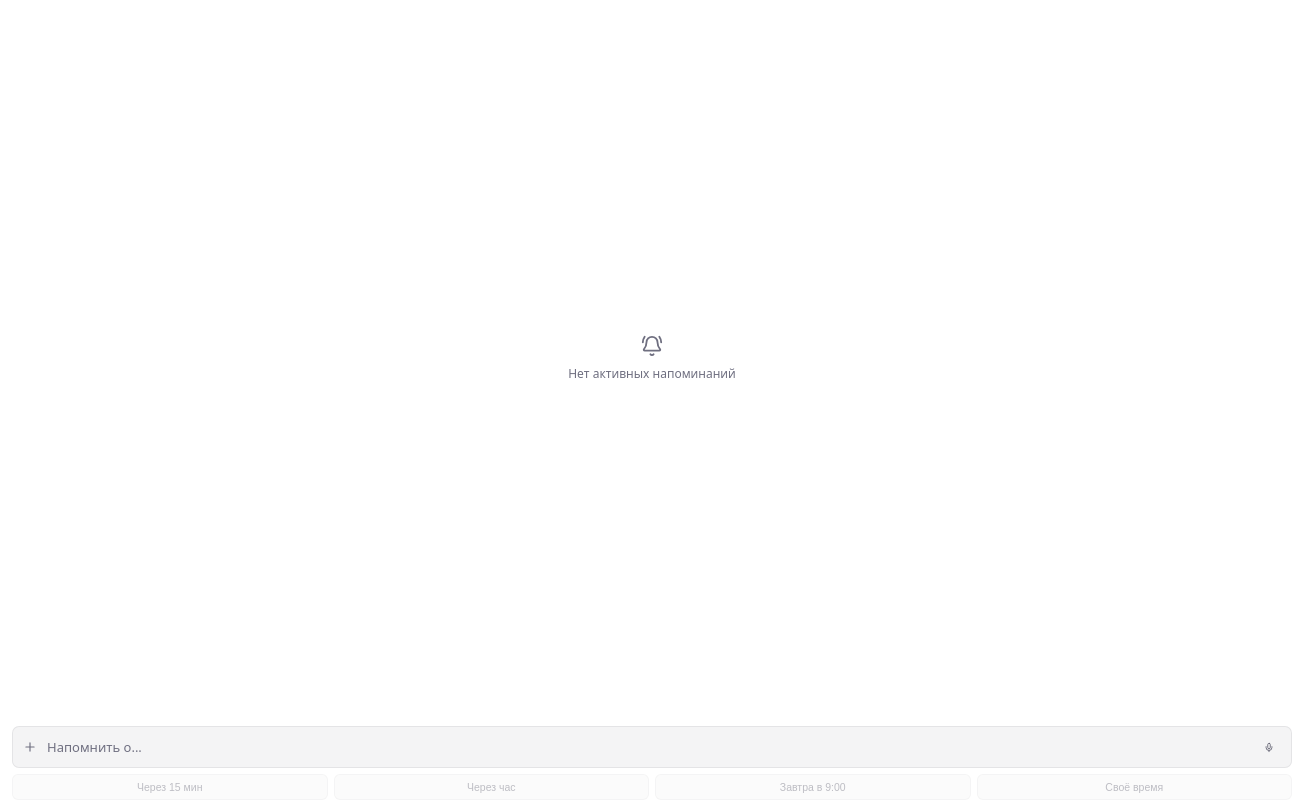
RemindersView › records and creates a voice reminder
The image size is (1304, 800).
Expected: the text "Нет активных напоминаний" is shown, [568, 364, 736, 382]
Click the button titled "Записать голосовое напоминание".
click(1269, 747)  # box [1257, 735, 1281, 759]
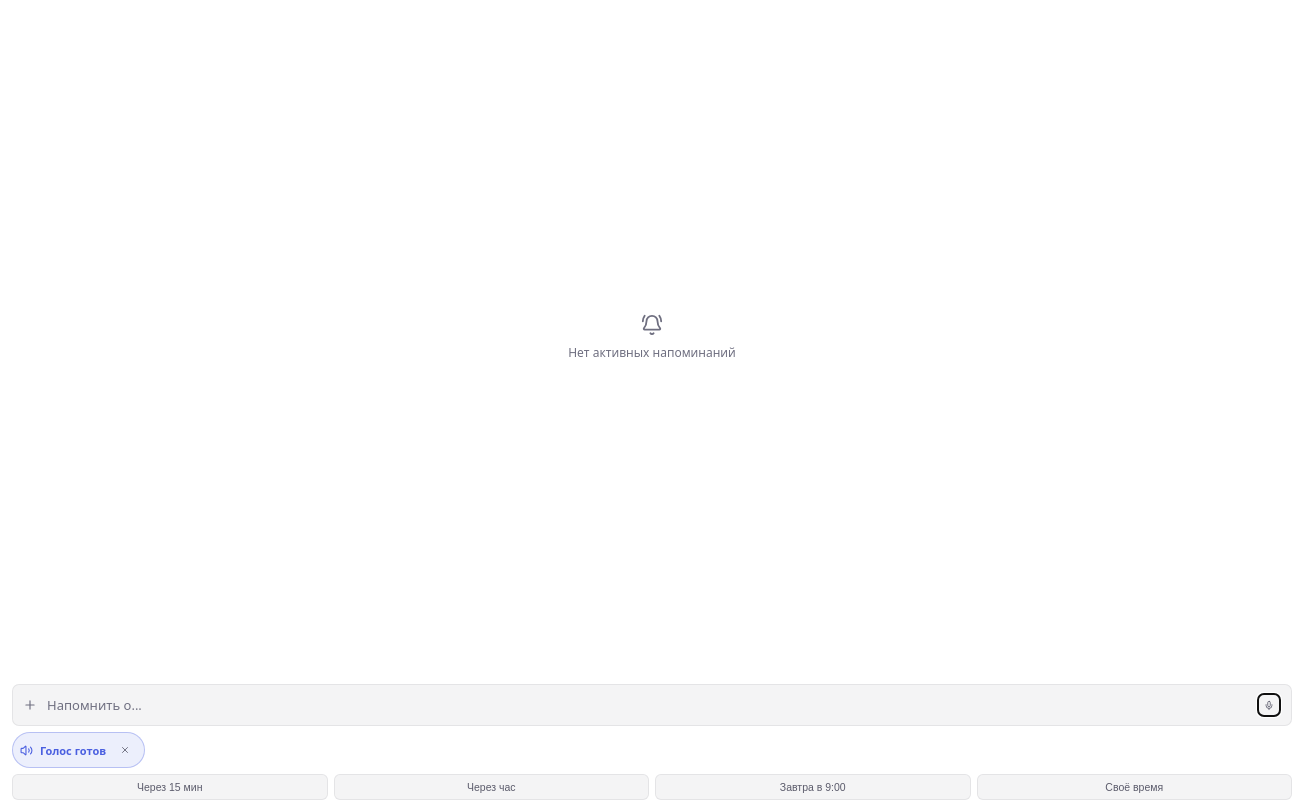
Expected: the text "Голос готов" is shown, [40, 742, 106, 758]
Click the button "Через 15 мин".
click(170, 787)  # box [12, 774, 328, 799]
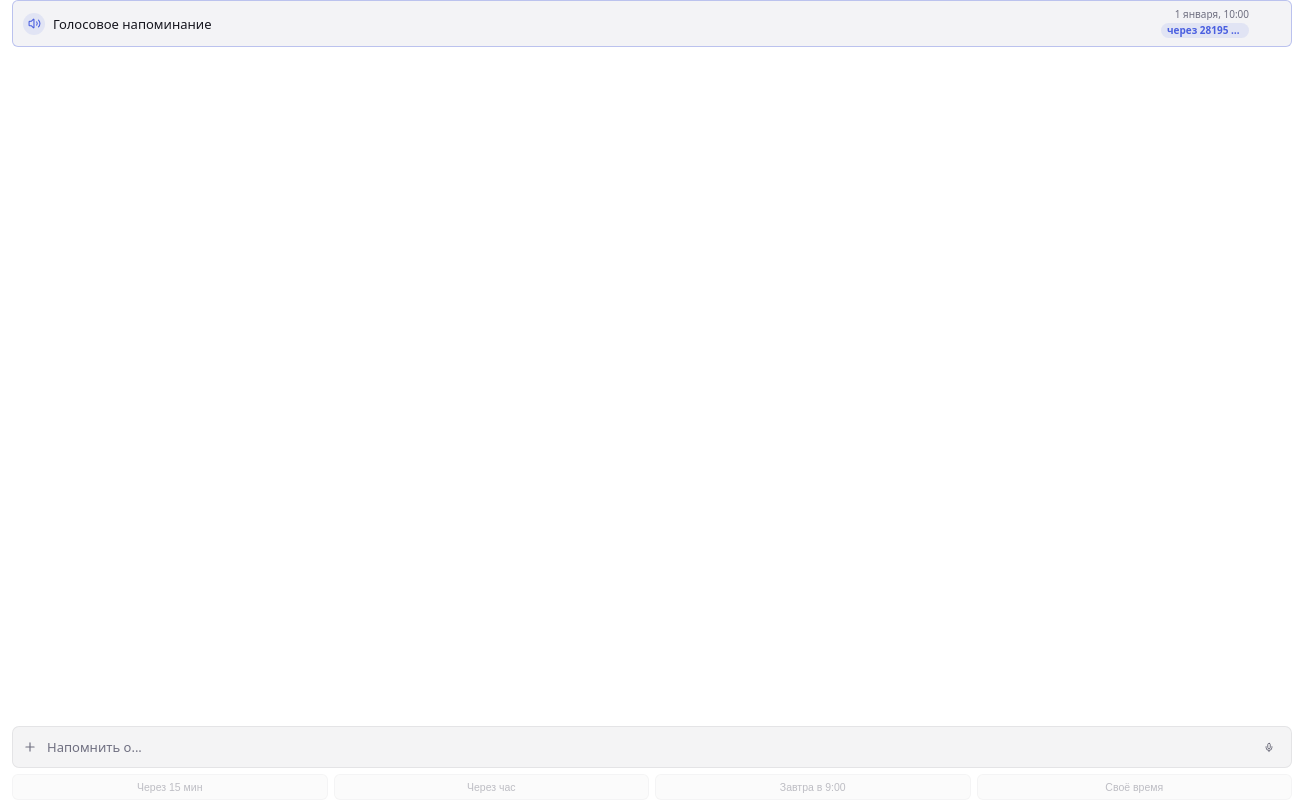
Expected: the button "Голосовое напоминание" is shown, [53, 14, 1153, 32]
